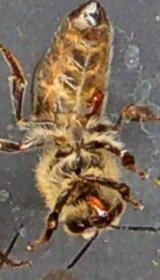varroa_mite: (88, 87, 104, 113)
